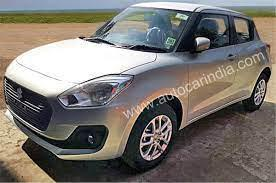Hatchback: (3, 1, 273, 172)
